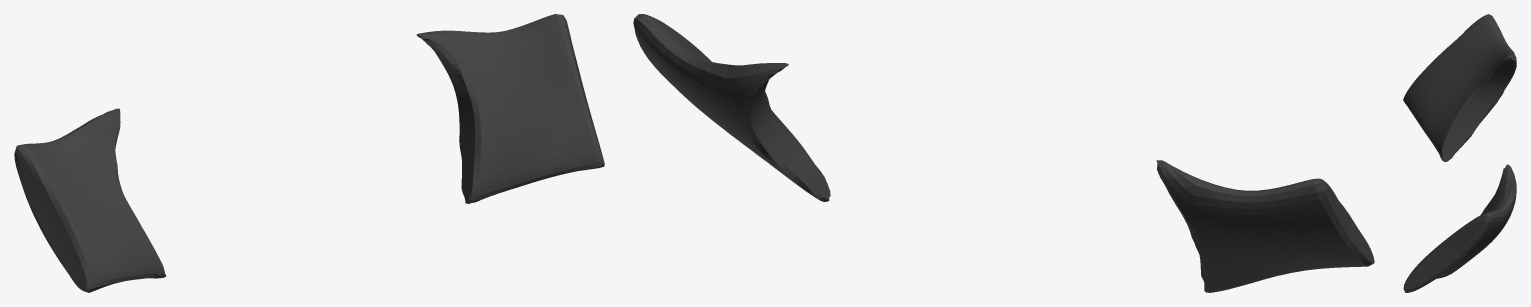
3 renders of one model, left to right at view 1: azimuth 30°, elevation 25°; view 2: azimuth 150°, elevation 25°; view 3: azimuth 270°, elevation 25°, orthographic. The views are drawn at different scales.
Parts seen in each view (by area): view 1: CN8_low_CN8_low; view 2: CN8_low_CN8_low; view 3: CN8_low_CN8_low.
Boxes of the visible parts, left/top/right/bottom form: CN8_low_CN8_low: left=14, top=14, right=604, bottom=292; CN8_low_CN8_low: left=633, top=14, right=1374, bottom=292; CN8_low_CN8_low: left=1403, top=14, right=1516, bottom=292.
Bounding box in the file's own units: 31.55 × 7.74 × 7.43.
Materials: 1 (1 with a texture image).
